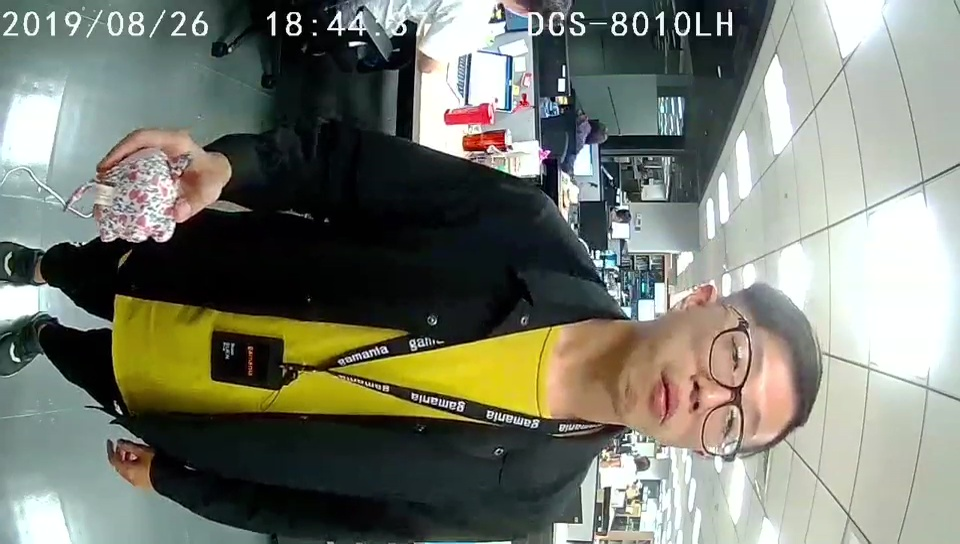pig: (95, 149, 192, 244)
